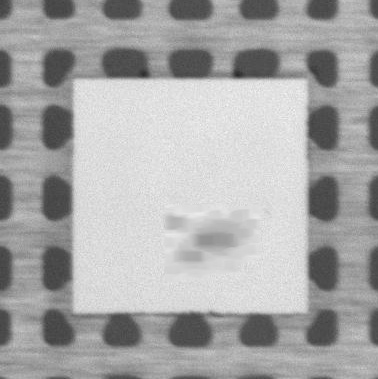DIE_INK: (161, 202, 262, 286)
